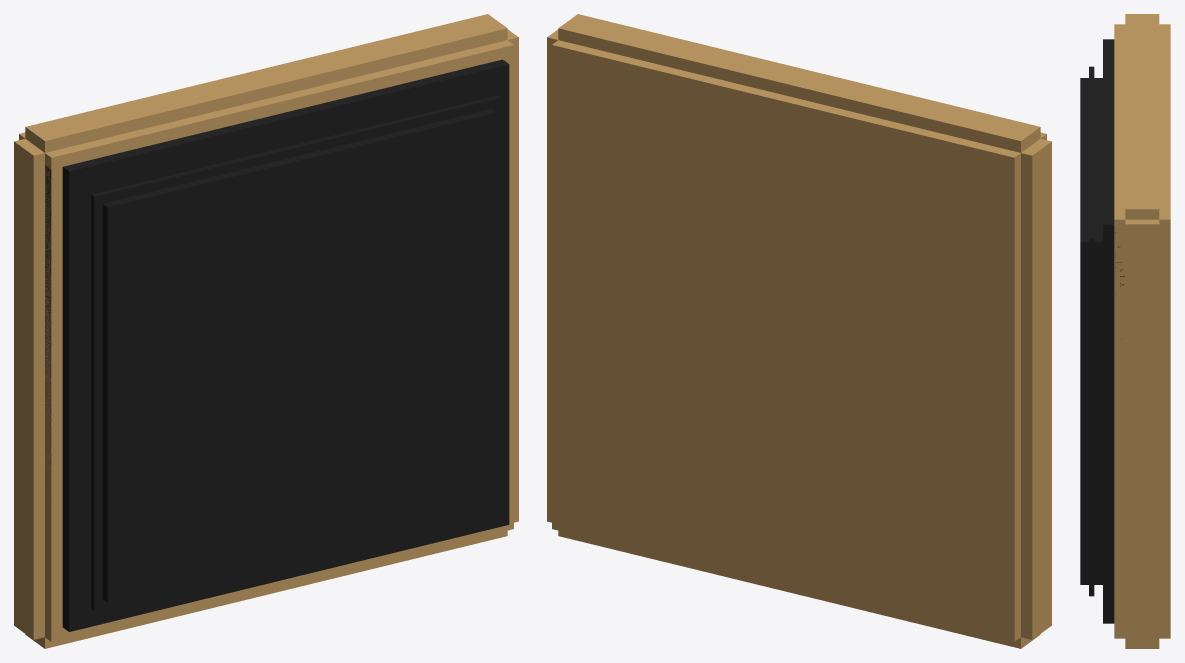
The picture shows the model from 3 angles, left to right: view 1: azimuth 30°, elevation 25°; view 2: azimuth 150°, elevation 25°; view 3: azimuth 270°, elevation 25°; orthographic projection. The views are drawn at different scales.
Parts seen in each view (by area): view 1: vazra; view 2: vazra; view 3: vazra.
Part boxes in pixels (bbox=[...]): vazra: bbox=[14, 14, 518, 648]; vazra: bbox=[547, 14, 1051, 648]; vazra: bbox=[1080, 14, 1170, 648].
Size of the model in its own units: 0.086 by 0.086 by 0.016.
